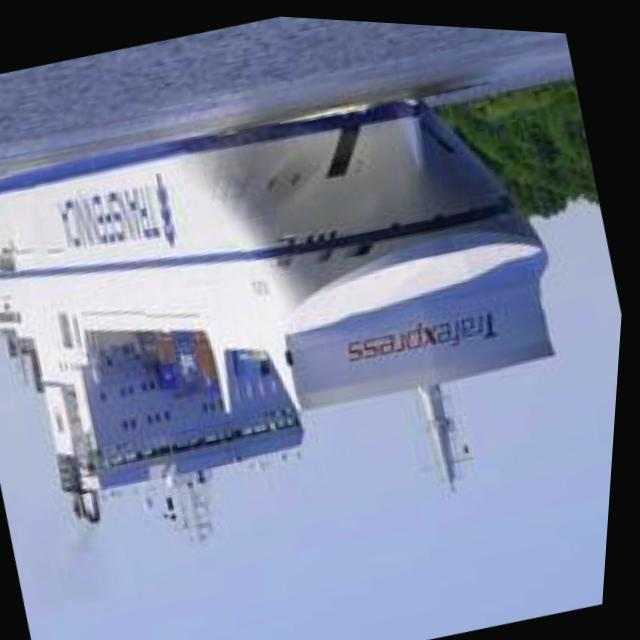ship2: (0, 92, 559, 542)
